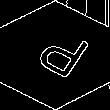P_SW: (22, 24, 88, 86)
